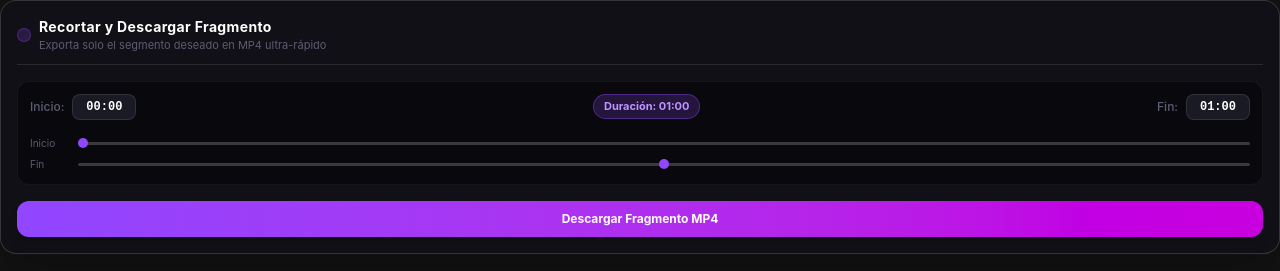
it: TimeRangeSnipper › updates start and end values safely
The width and height of the screenshot is (1280, 271).
Step 1. Replace the text in the field named "Tiempo de inicio" with "00:15" → (104,106), box [72,94,136,120]
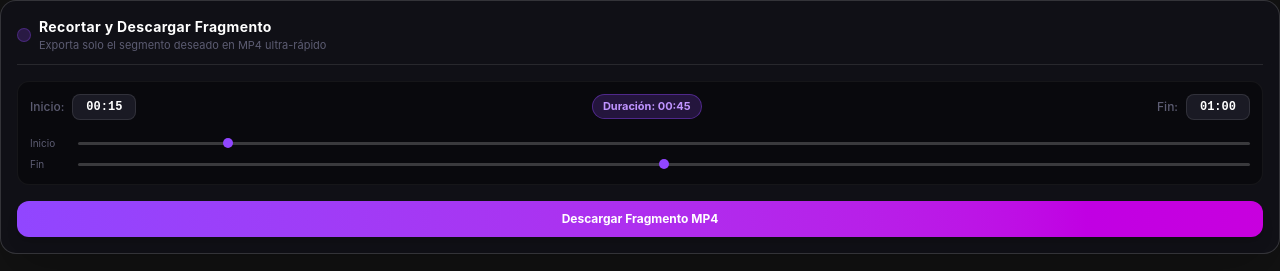
Step 2. Replace the text in the field named "Tiempo de fin" with "00:45" → (1218,106), box [1186,94,1250,120]
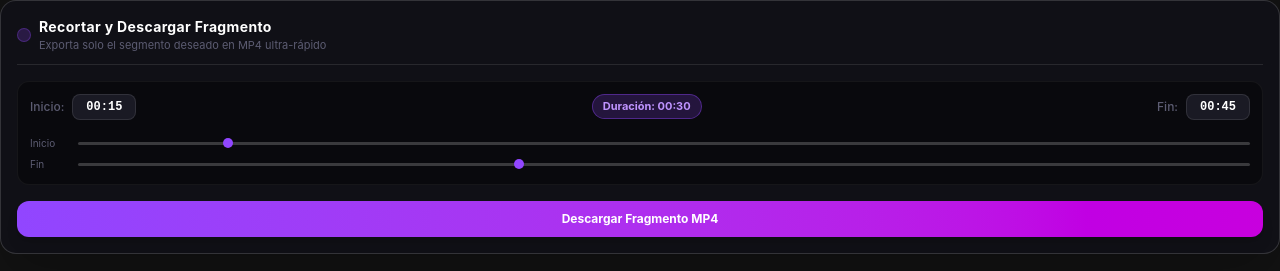
Expected: the text "Duración: 00:30" is shown, [603,99,691,114]
